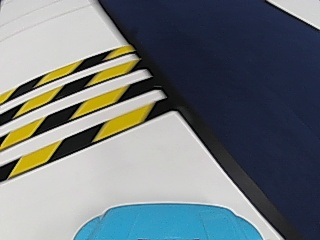bump: (5, 54, 129, 152)
